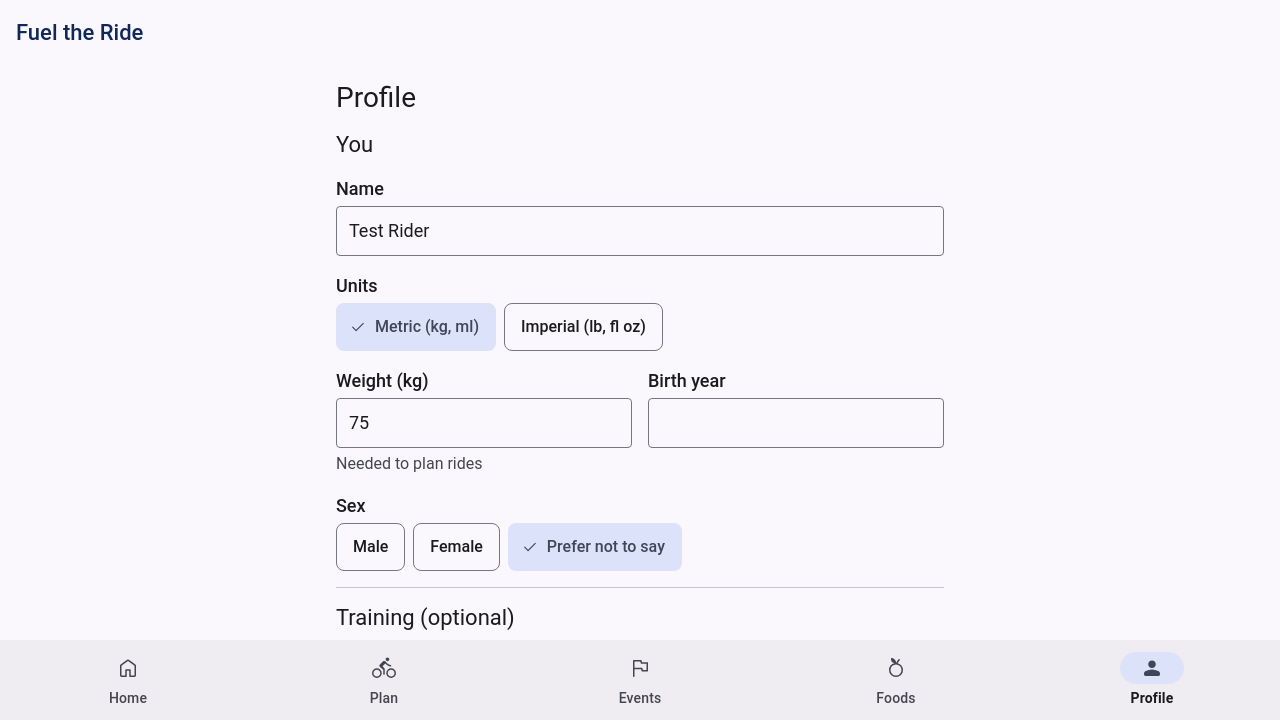
profile › switching units converts the weight already typed
Expected: the field labelled "Weight (kg)" holds "75", [337,398,631,446]
Click the radio button labelled "Imperial (lb, fl oz)" at (583, 326), box [504,302,663,350]
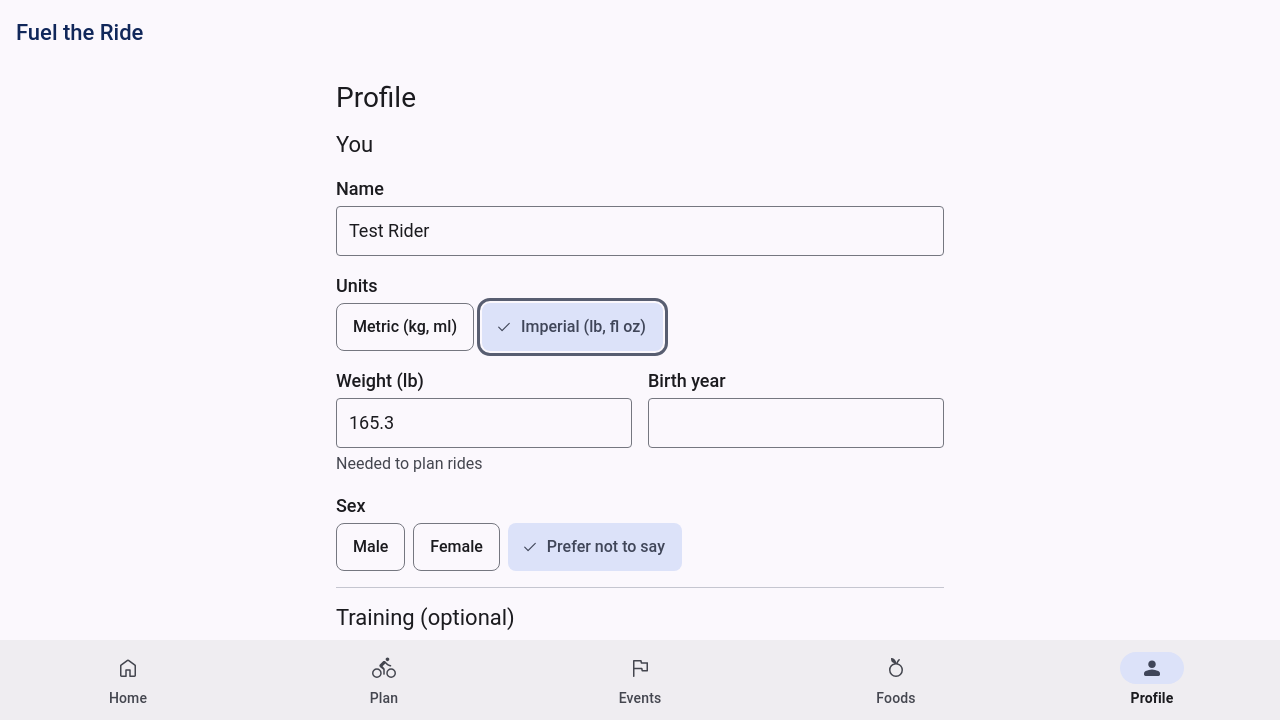
Now the field labelled "Weight (lb)" holds "165.3", box [337,398,631,446]
